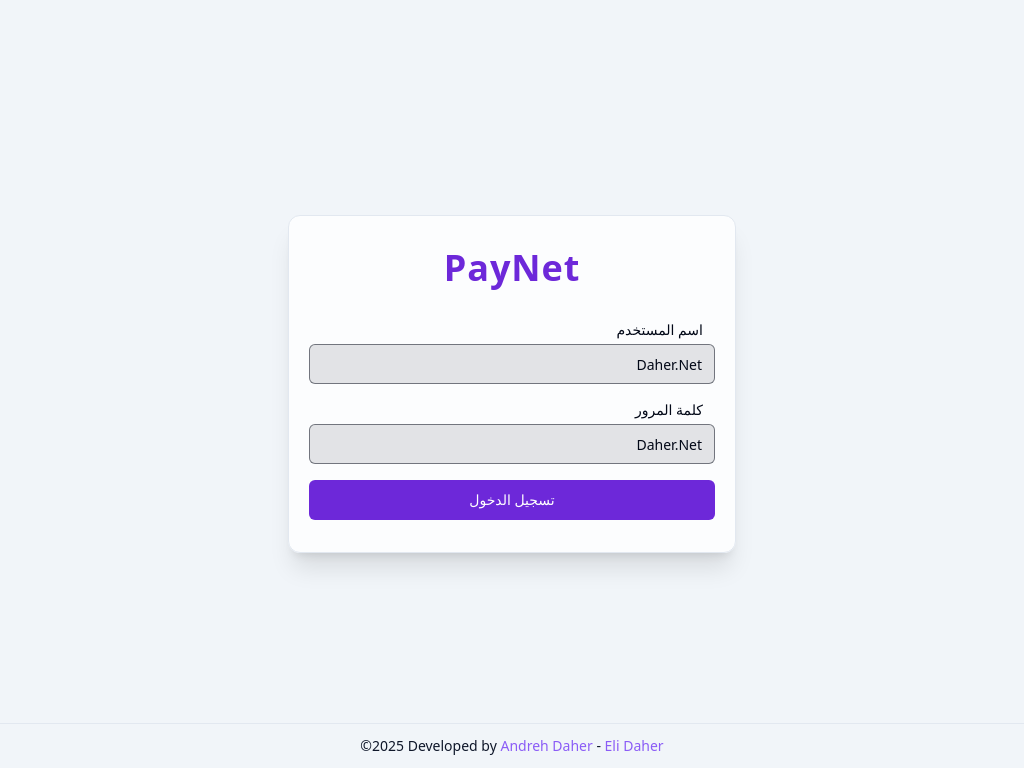
it: logs in and routes user-point to the correct home
The image size is (1024, 768).
Expected: the heading "PayNet" is shown, [444,243,580,292]
Type "qa" into the field labelled "اسم المستخدم".
click(512, 364); type("qa")  # box [309,344,715,384]
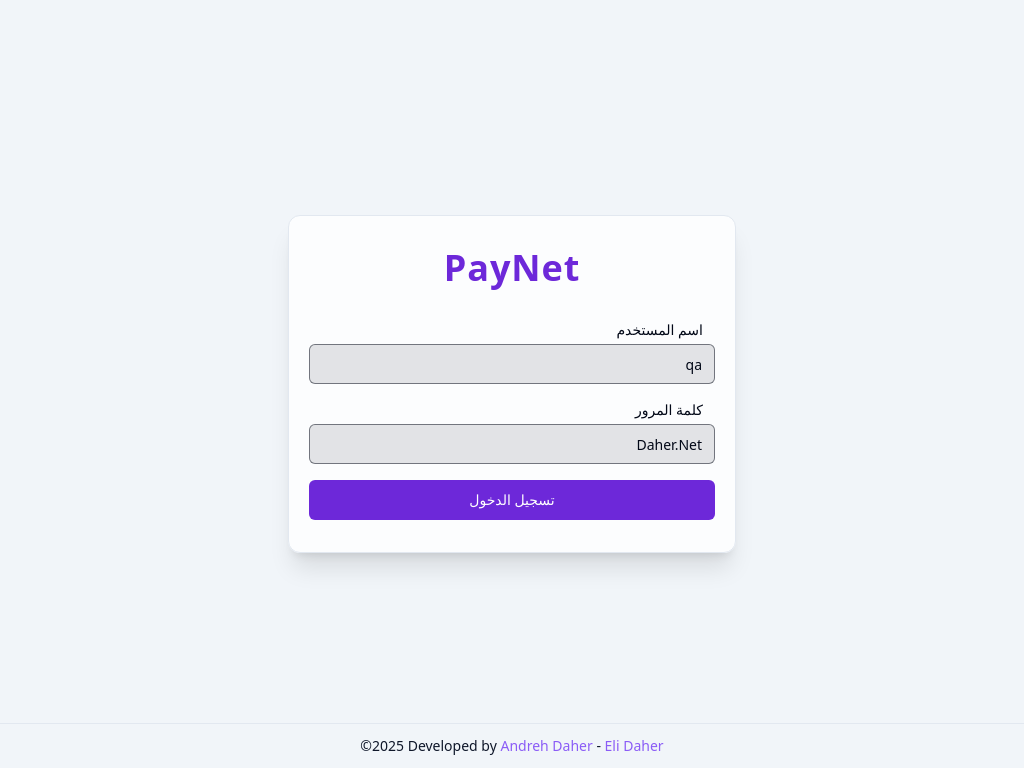
Type "password" into the password field labelled "كلمة المرور".
click(512, 444); type("password")  # box [309,424,715,464]
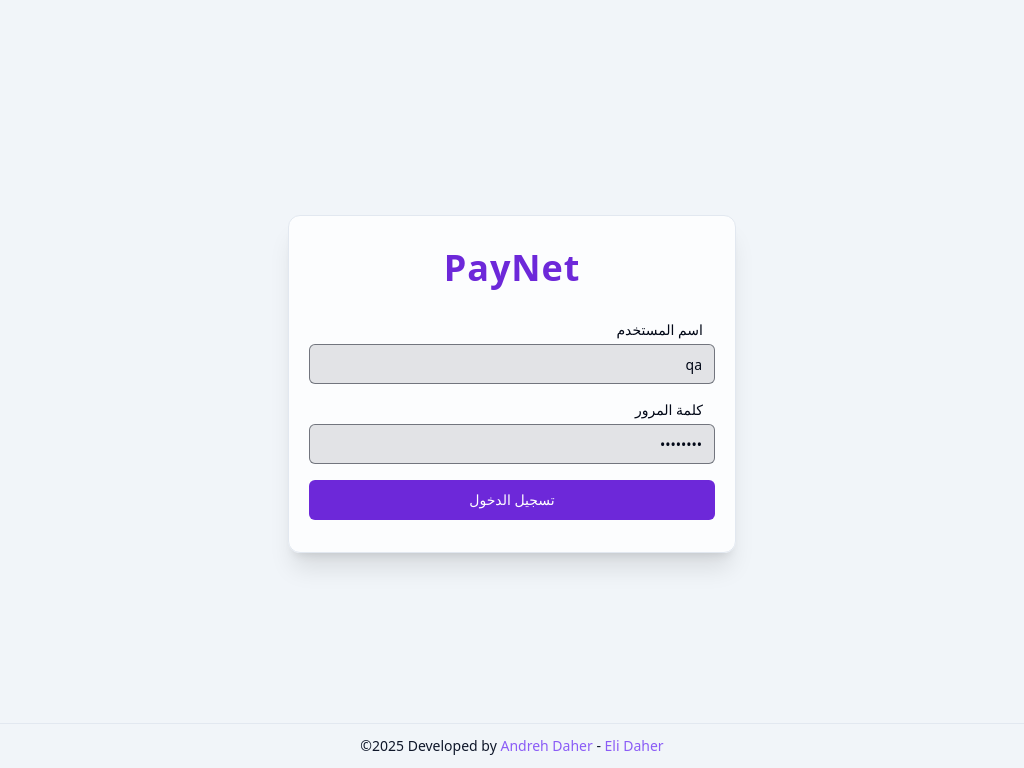
Click the button "تسجيل الدخول".
click(512, 500)  # box [309,480,715,520]
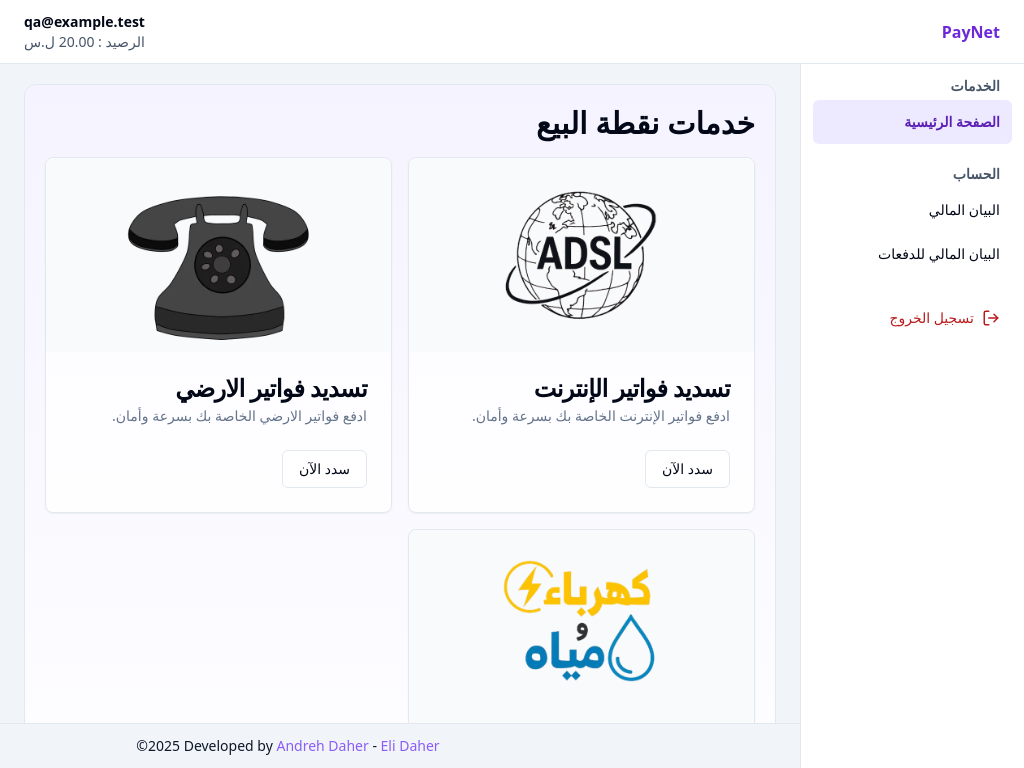
Now the heading "خدمات نقطة البيع" is shown, box [536,102,755,143]
